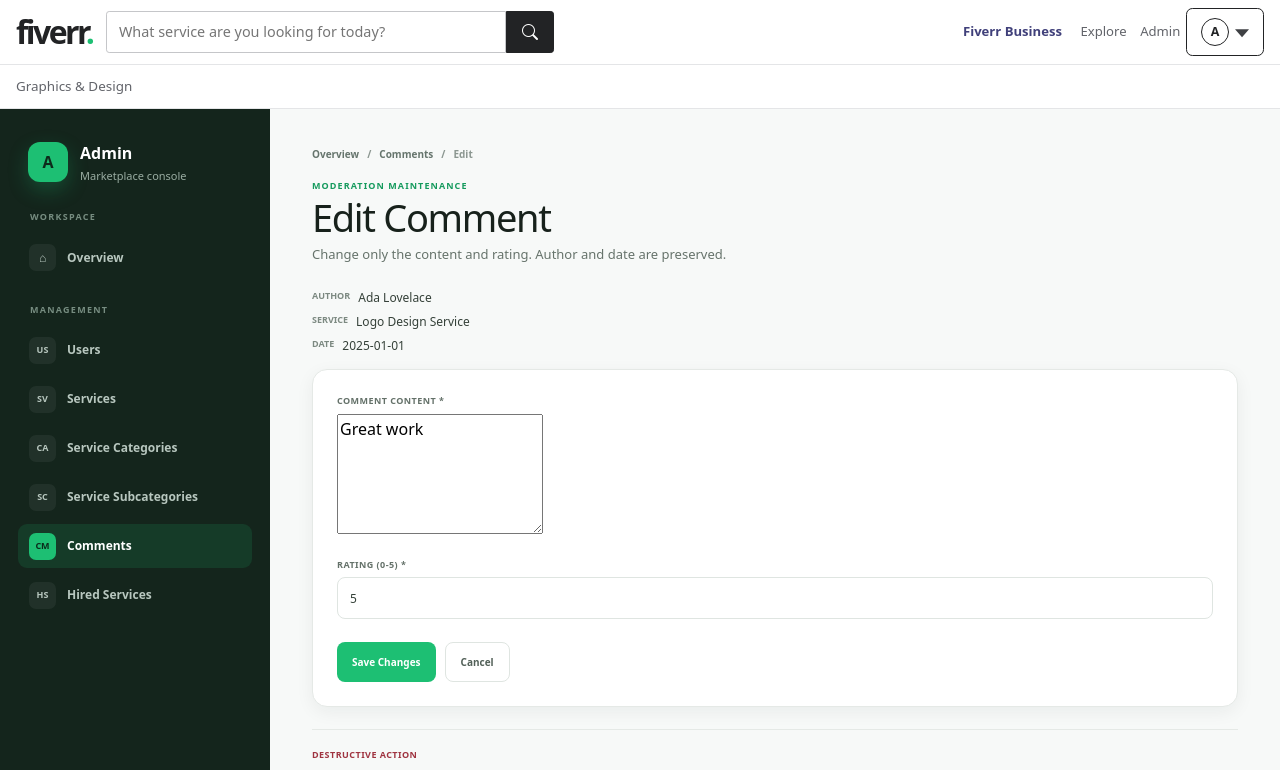
Test: Administrator Comment safeguards › blocks a stale edit with Reload latest and sends no PUT
The width and height of the screenshot is (1280, 770).
Type " more" into the text box labelled "Comment content *" at (440, 474), box 337,414 -> 543,534
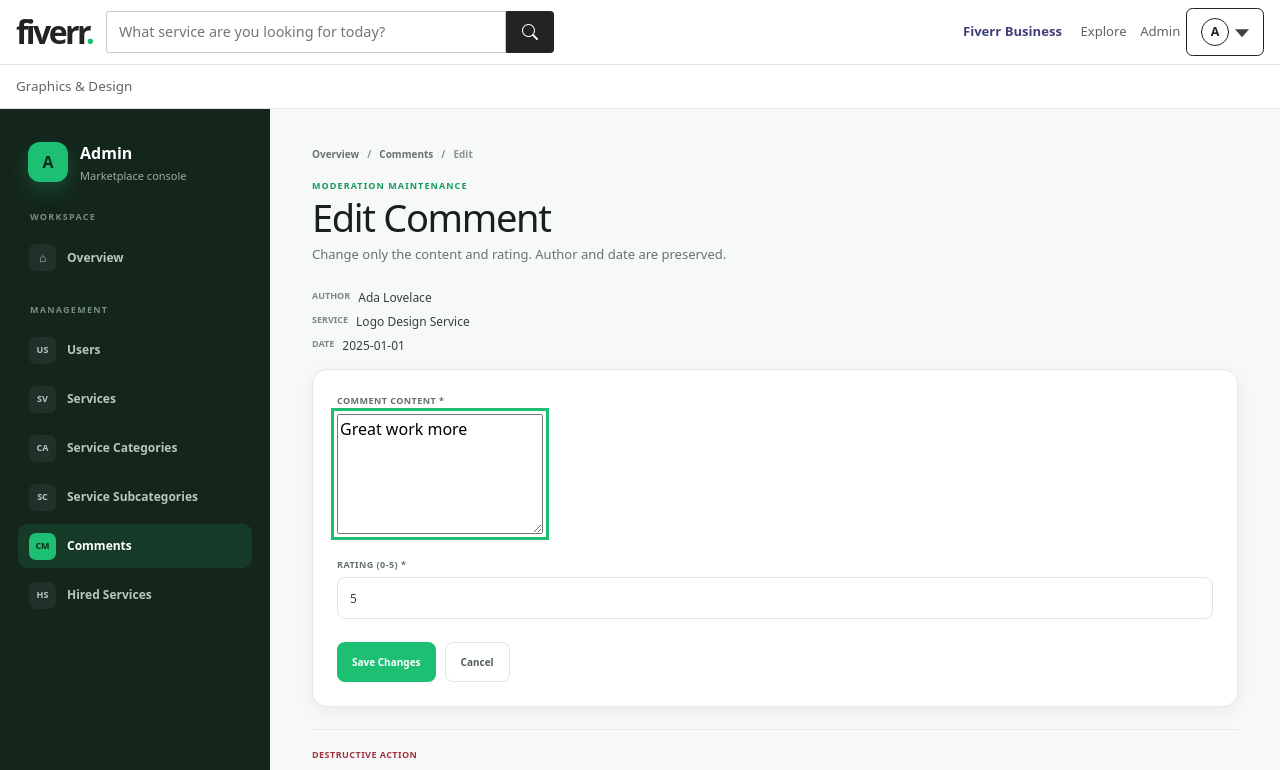
Click the button "Save Changes" at (386, 662), box 337,642 -> 436,682
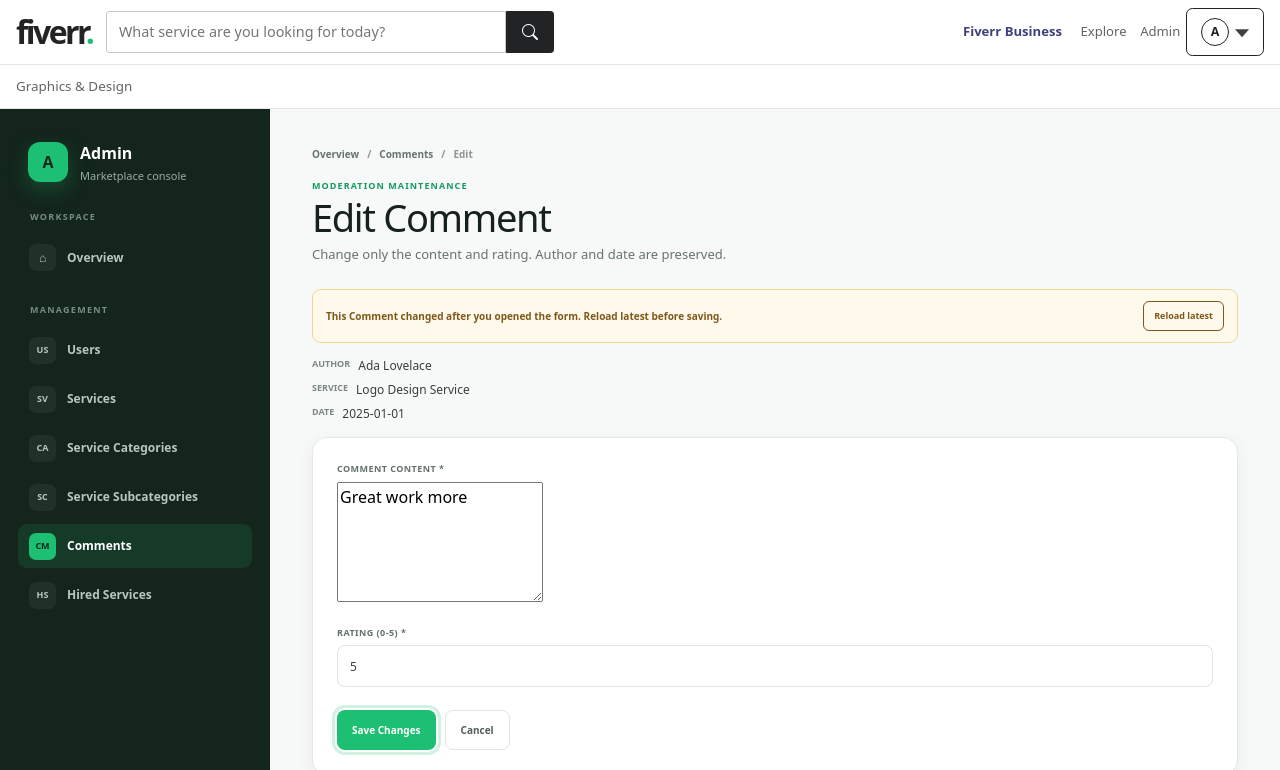
expect the button "Reload latest" is shown: met, box 1143,301 -> 1224,331
